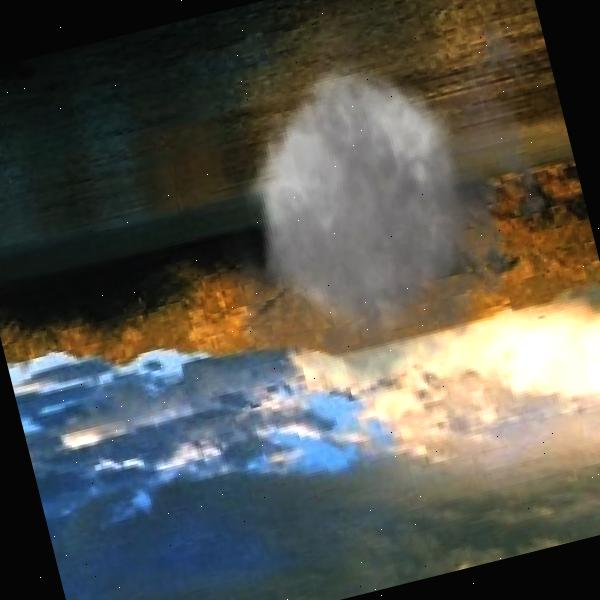smoke: (151, 0, 600, 445)
